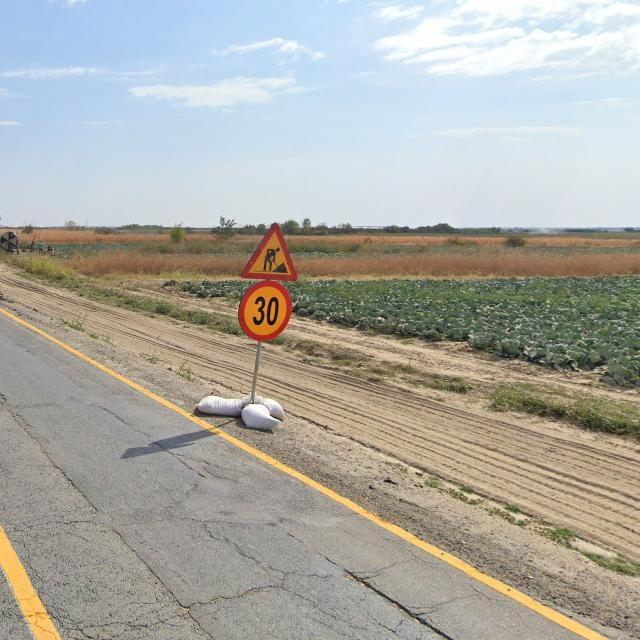forb_speed_over_30: (238, 281, 292, 341)
